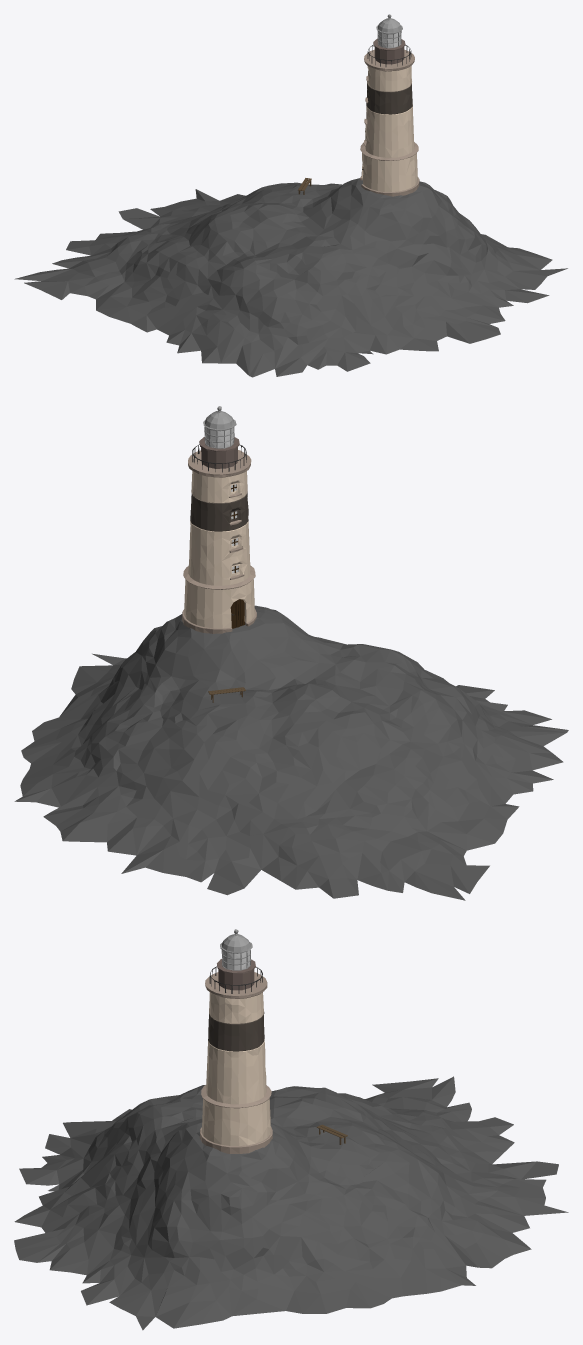
File: Combined Mesh (root_ scene)_4.glb
3 views of the same model, one above another, from view 1: azimuth 30°, elevation 25°; view 2: azimuth 150°, elevation 25°; view 3: azimuth 270°, elevation 25° (orthographic). The views are drawn at different scales.
Parts seen in each view (by area): view 1: Combined Mesh (root_ scene)_4; view 2: Combined Mesh (root_ scene)_4; view 3: Combined Mesh (root_ scene)_4.
Boxes of the visible parts, left/top/right/bottom form: Combined Mesh (root_ scene)_4: left=14, top=14, right=567, bottom=377; Combined Mesh (root_ scene)_4: left=14, top=406, right=568, bottom=900; Combined Mesh (root_ scene)_4: left=14, top=929, right=568, bottom=1330.
Size of the model in its own units: 39.41 by 22.92 by 36.34.
1 material, 1 textured.
